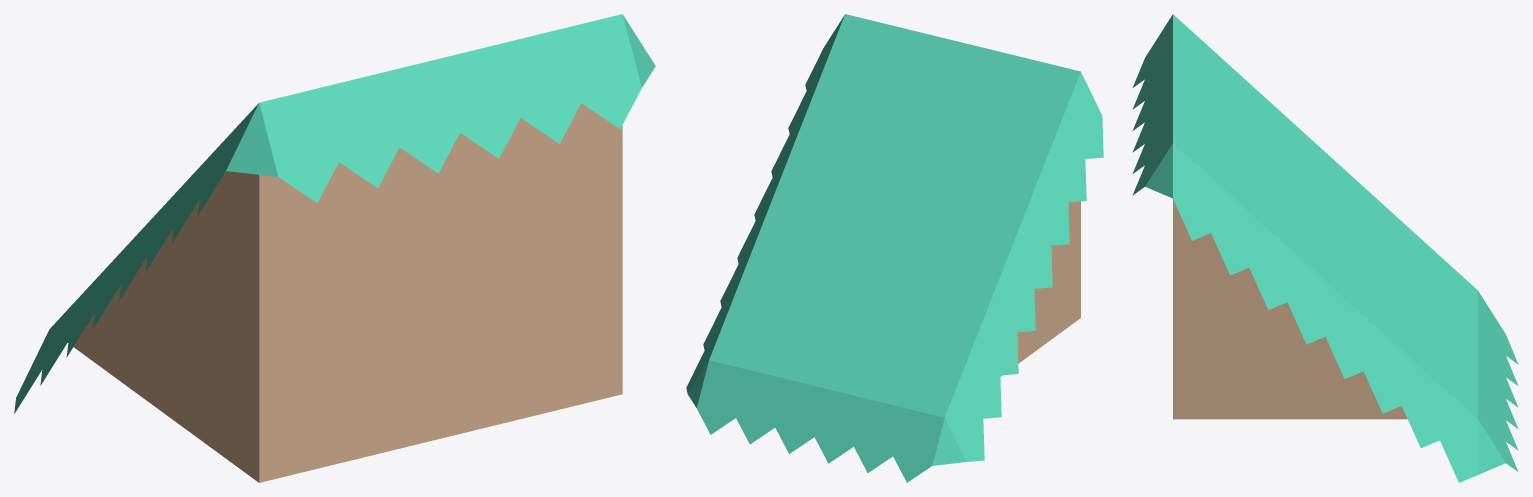
The model's file is blockSlope.glb.
3 views of the same model, side by side, from view 1: azimuth 30°, elevation 25°; view 2: azimuth 150°, elevation 25°; view 3: azimuth 270°, elevation 25° (orthographic). The views are drawn at different scales.
Visible parts, largest first — view 1: blockSlope(Clone); view 2: blockSlope(Clone); view 3: blockSlope(Clone).
Boxes of the visible parts, <box> form: blockSlope(Clone): <box>14,14,655,482</box>; blockSlope(Clone): <box>686,14,1103,482</box>; blockSlope(Clone): <box>1132,14,1518,482</box>.
Bounding box in the file's own units: 1.27 × 1.23 × 1.27.
